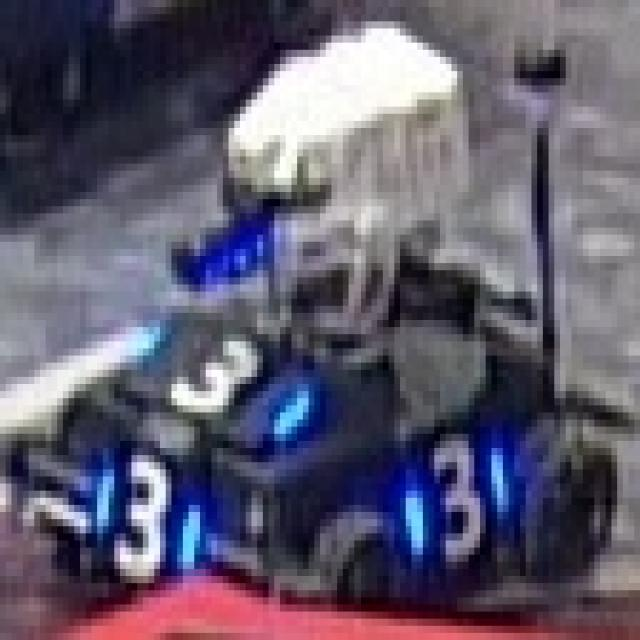B3: (400, 427, 509, 576), (86, 448, 200, 583)
